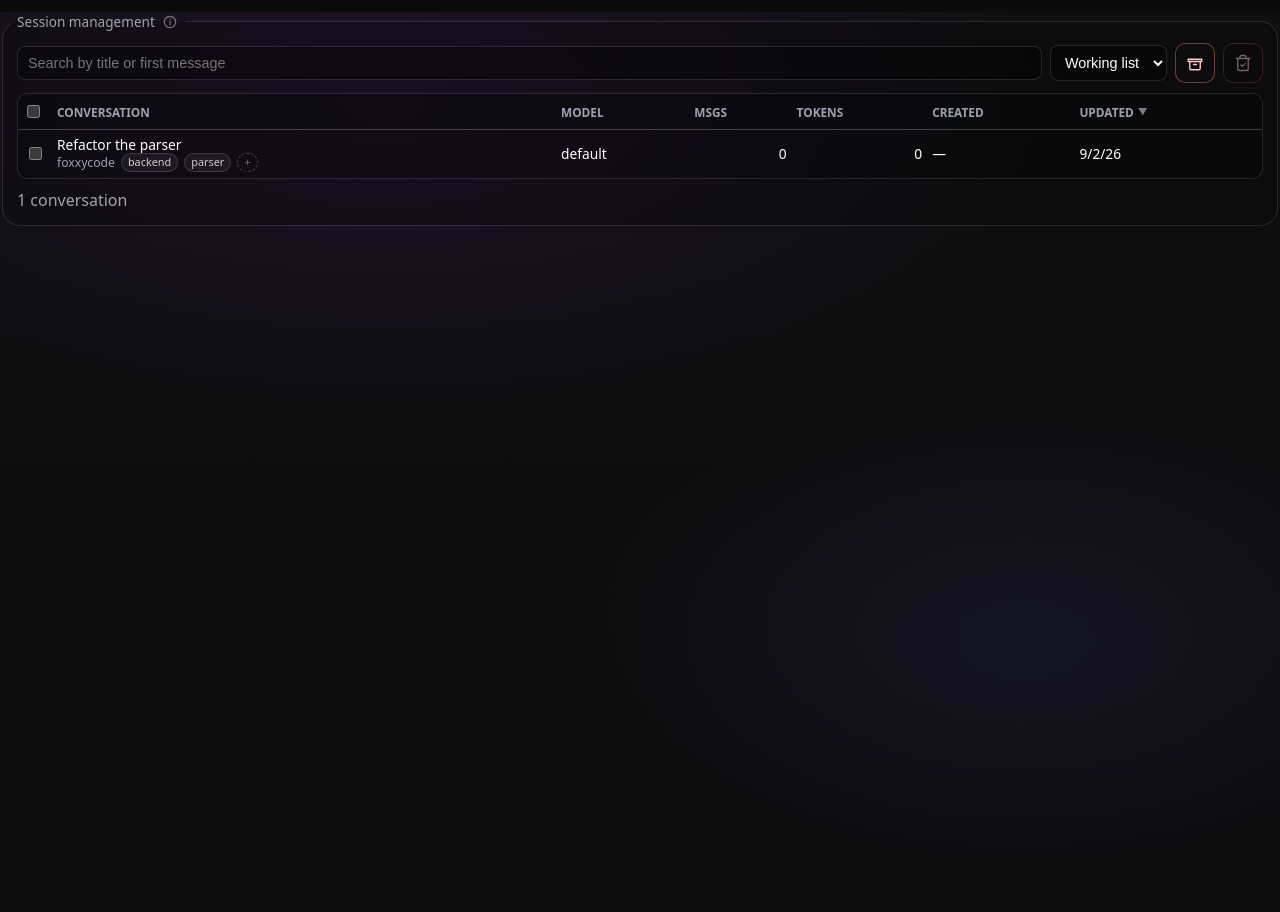
Scenario: the listing starts on the working list and the archive is one control away
The image size is (1280, 912).
Expected: the row with test id "sessions-manager-row-sess_live" is shown, [18, 130, 1262, 178]
Select "Archive" in the dropdown with test id "sessions-manager-archive-filter": (1108, 63) [1050, 45, 1167, 81]
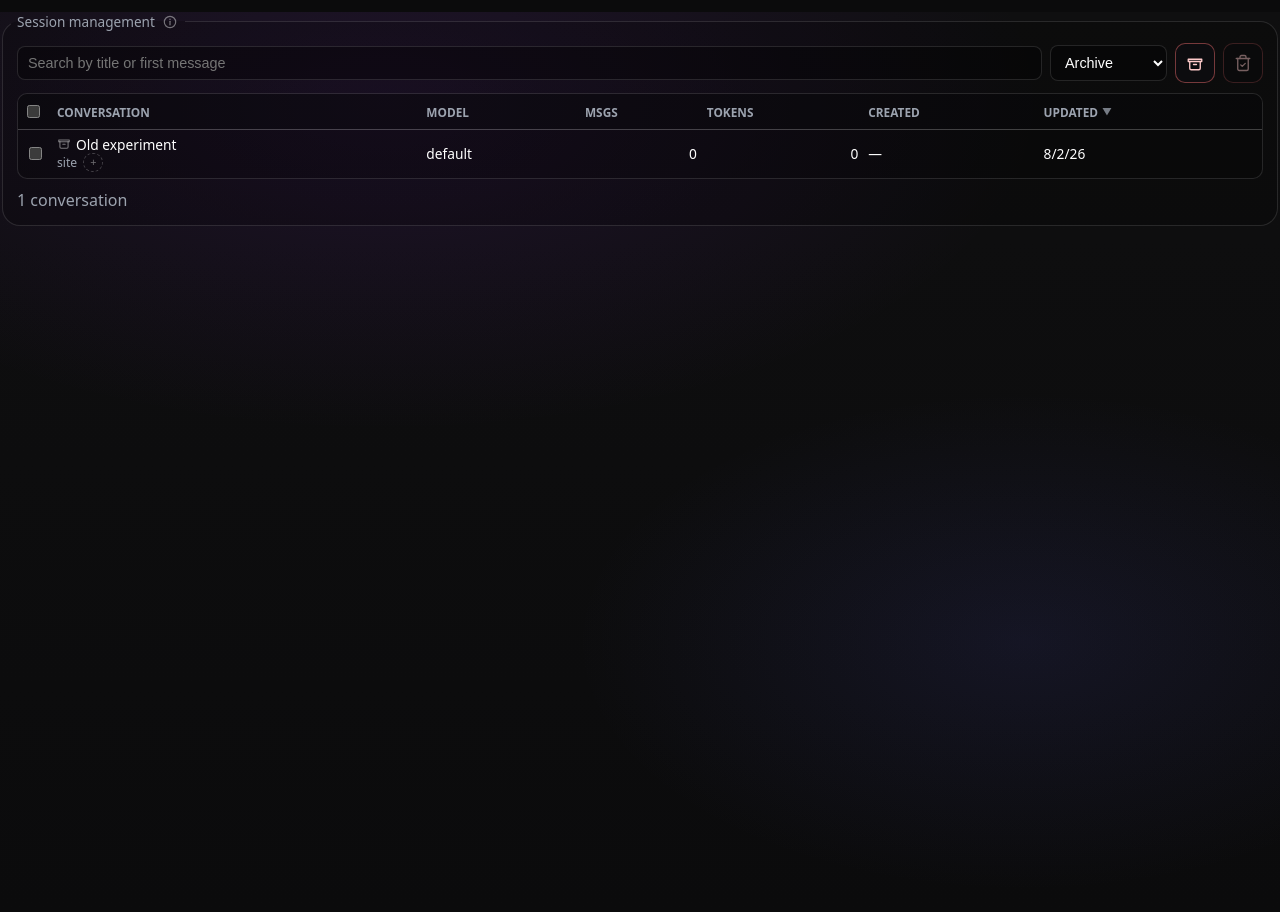
Now the row with test id "sessions-manager-row-sess_filed" is shown, box [18, 130, 1262, 178]
Now the row with test id "sessions-manager-row-sess_live" is gone
Select "Everything" in the dropdown with test id "sessions-manager-archive-filter": (1108, 63) [1050, 45, 1167, 81]
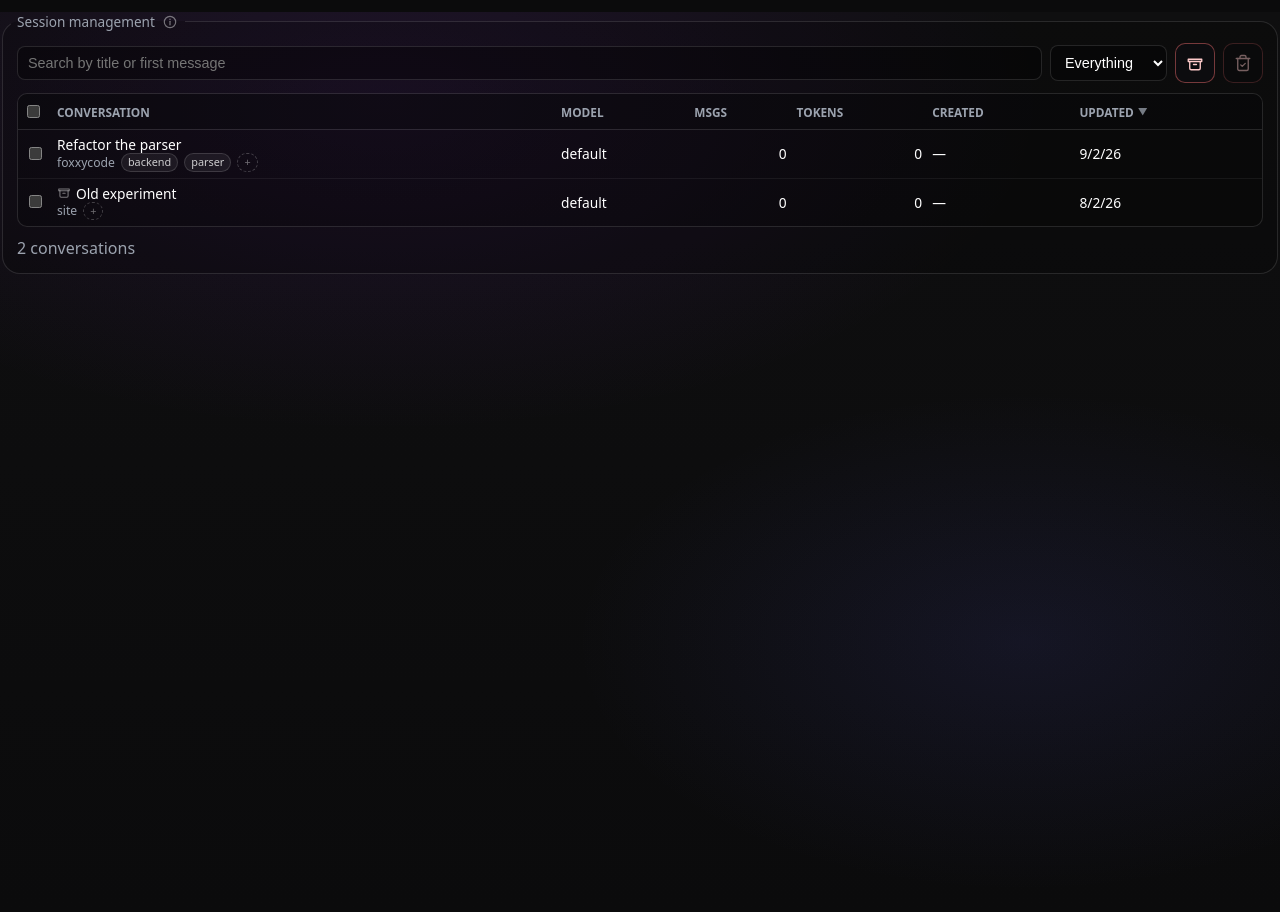
Now the row with test id "sessions-manager-row-sess_filed" is shown, box [18, 178, 1262, 226]
Now the row with test id "sessions-manager-row-sess_live" is shown, box [18, 130, 1262, 178]
